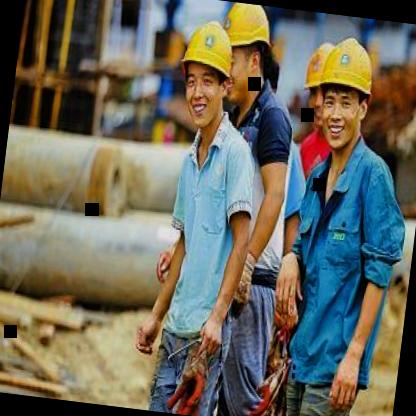helmet: (172, 9, 250, 131), (315, 29, 383, 160), (198, 0, 272, 116), (296, 34, 342, 136)
